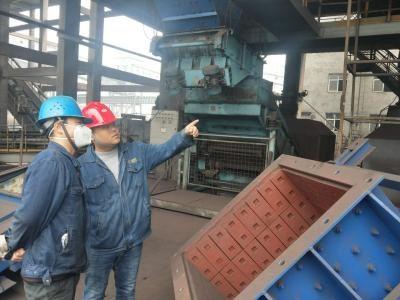blue: (36, 95, 91, 153)
red: (80, 101, 121, 147)
